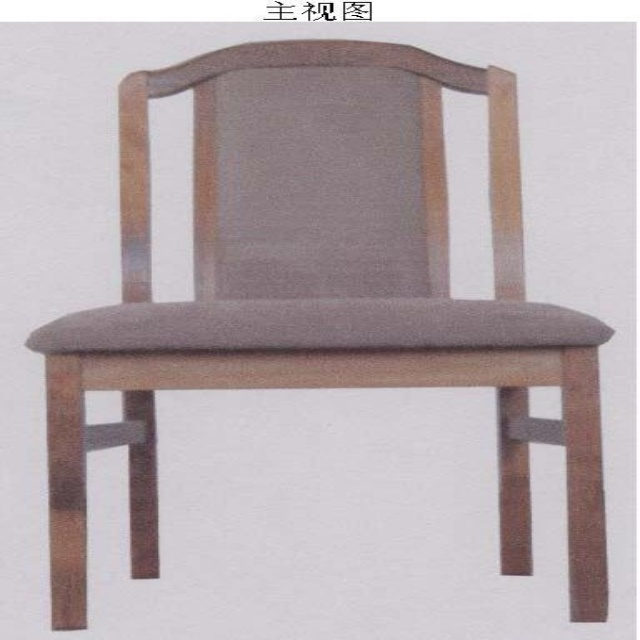obstacle: (28, 41, 610, 629)
